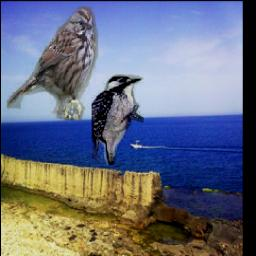Sparrow: (7, 7, 99, 120)
Woodpecker: (91, 75, 143, 166)
